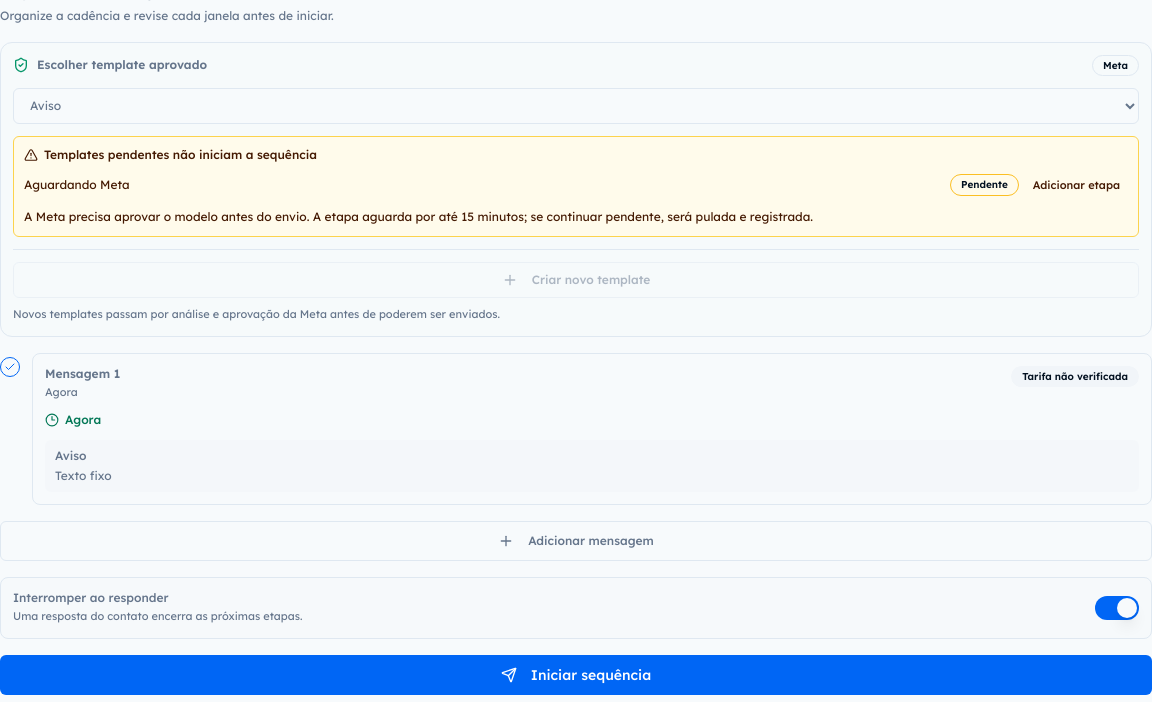
Test: SequenceBuilder › keeps a pending template visible as an explicit, blocked stage
Click the button "Adicionar etapa" at (1076, 184), box left=1025, top=170, right=1128, bottom=198
(page scrolled)
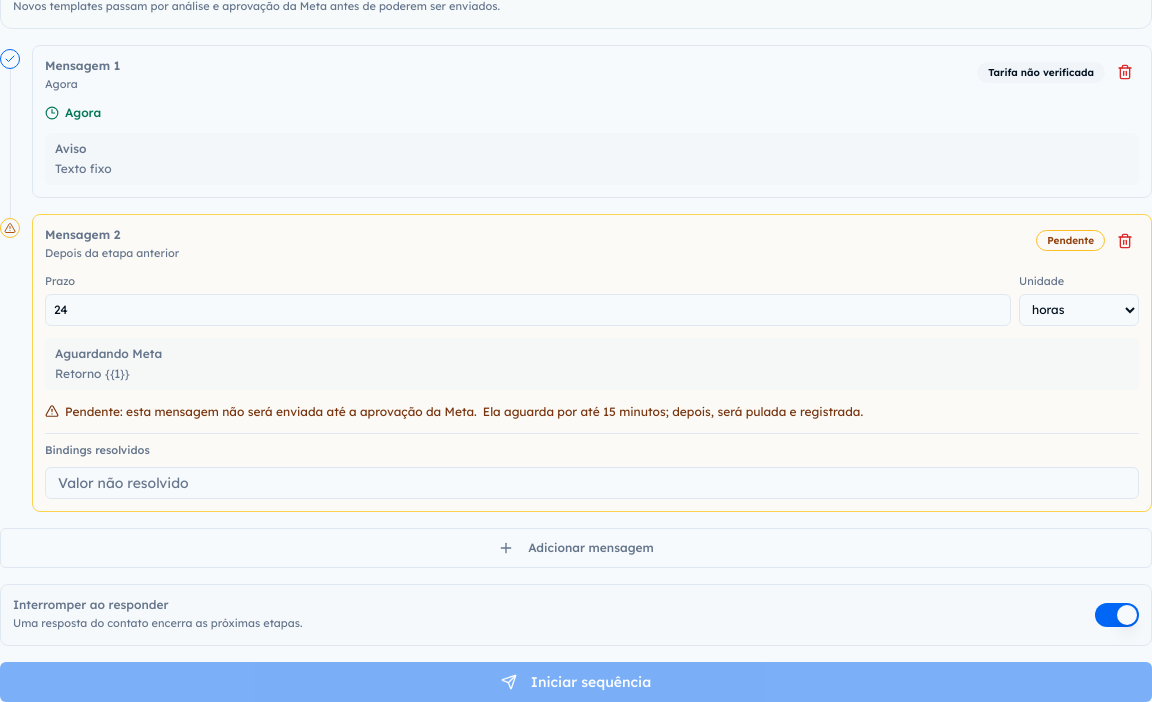
Now the text "Pendente: esta mensagem não será enviada até a aprovação da Meta." is shown, box left=65, top=402, right=477, bottom=421
Now the button "Iniciar sequência" is disabled, box left=0, top=662, right=1151, bottom=701
